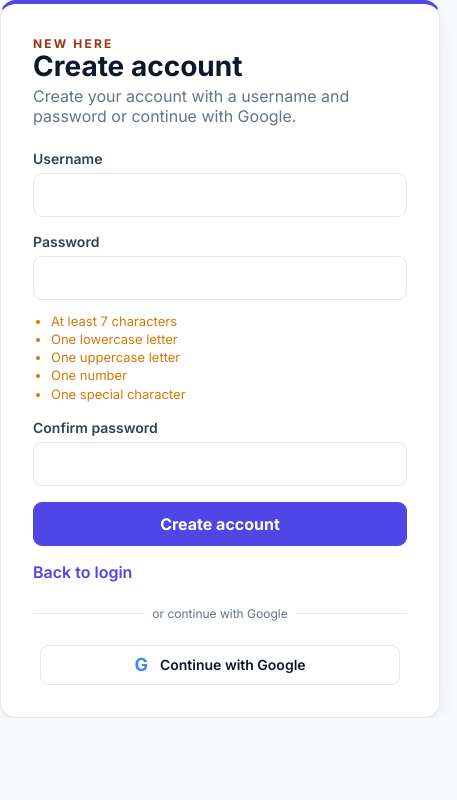
CreateAccountPage › keeps the Google button enabled and explains missing configuration
This screenshot has width=457, height=800.
Click the button "G Continue with Google": (220, 665) [40,645,400,685]
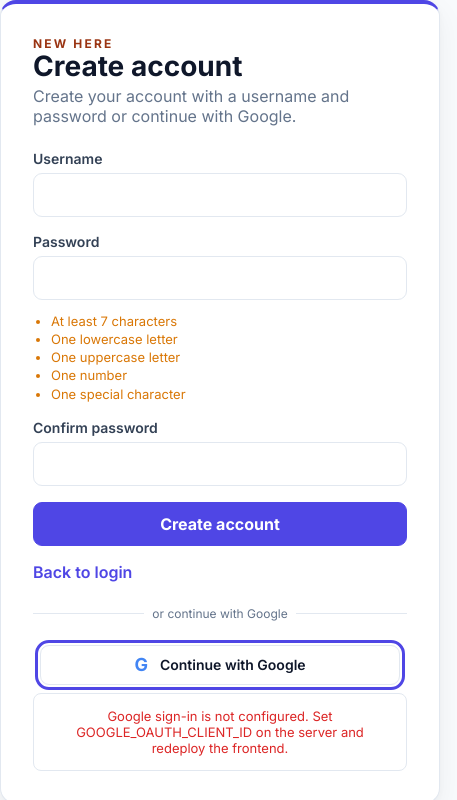
Expected: the message shows "set GOOGLE_OAUTH_CLIENT_ID on the server and redeploy the frontend", [76,708,364,756]
